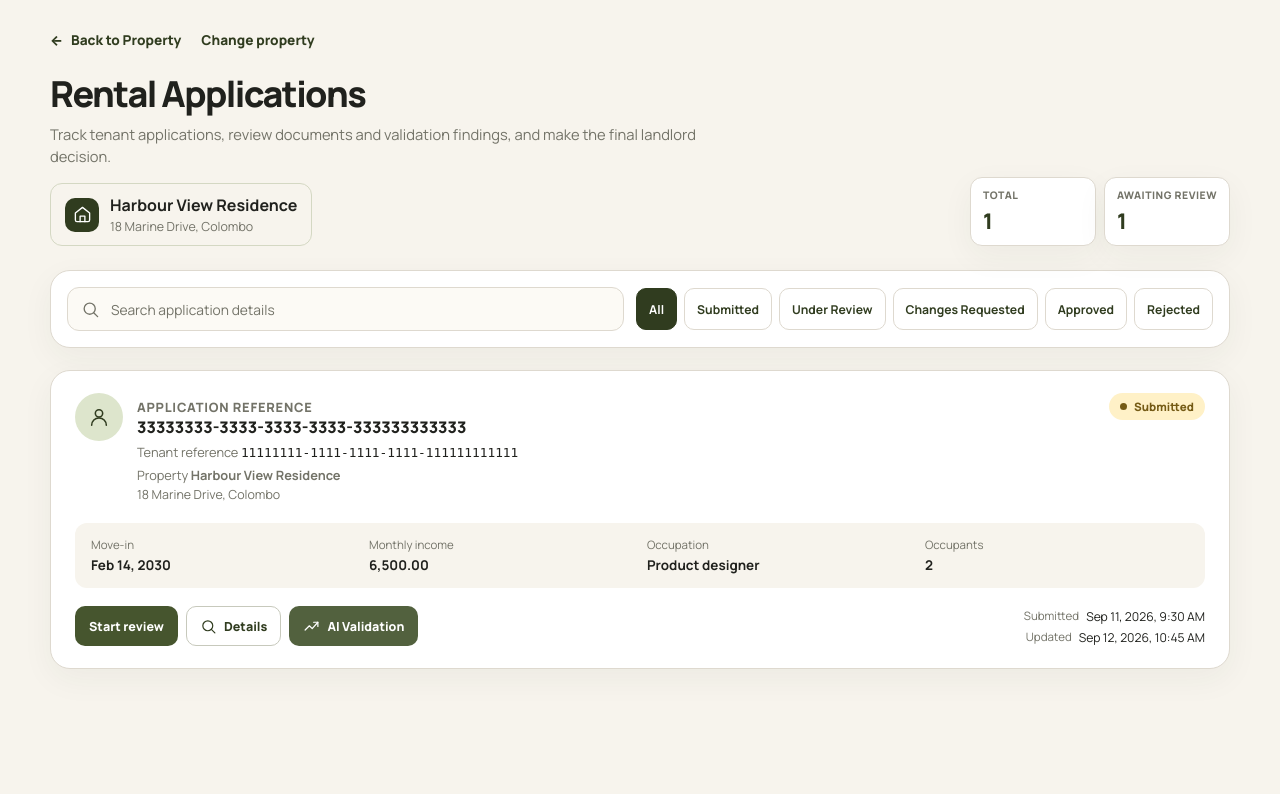
it: Landlord rental applications › keeps Details inline while AI Validation remains a dedicated navigation target
Click the button "Details" at x=234, y=626, box [186,606,281,646]
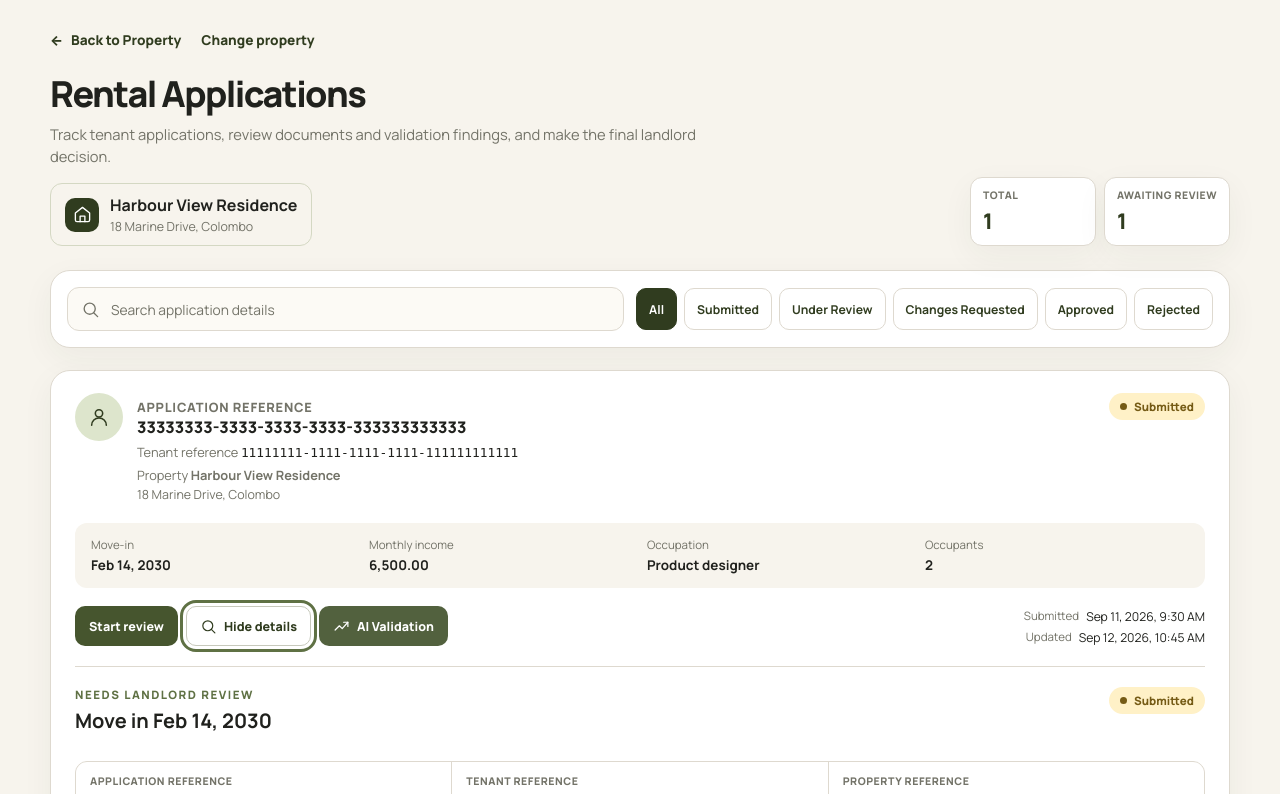
Expected: the button "Hide details" is expanded, [186,606,311,646]
